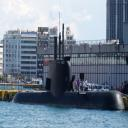submarine: (8, 24, 125, 114)
